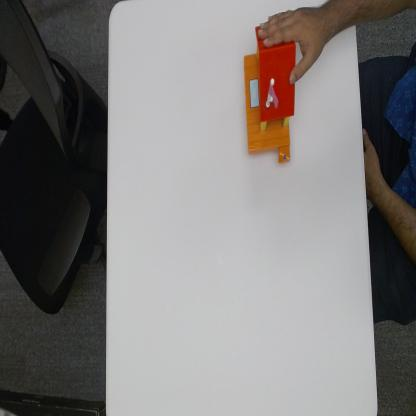Hand: (256, 0, 330, 85)
House: (242, 16, 296, 168)
